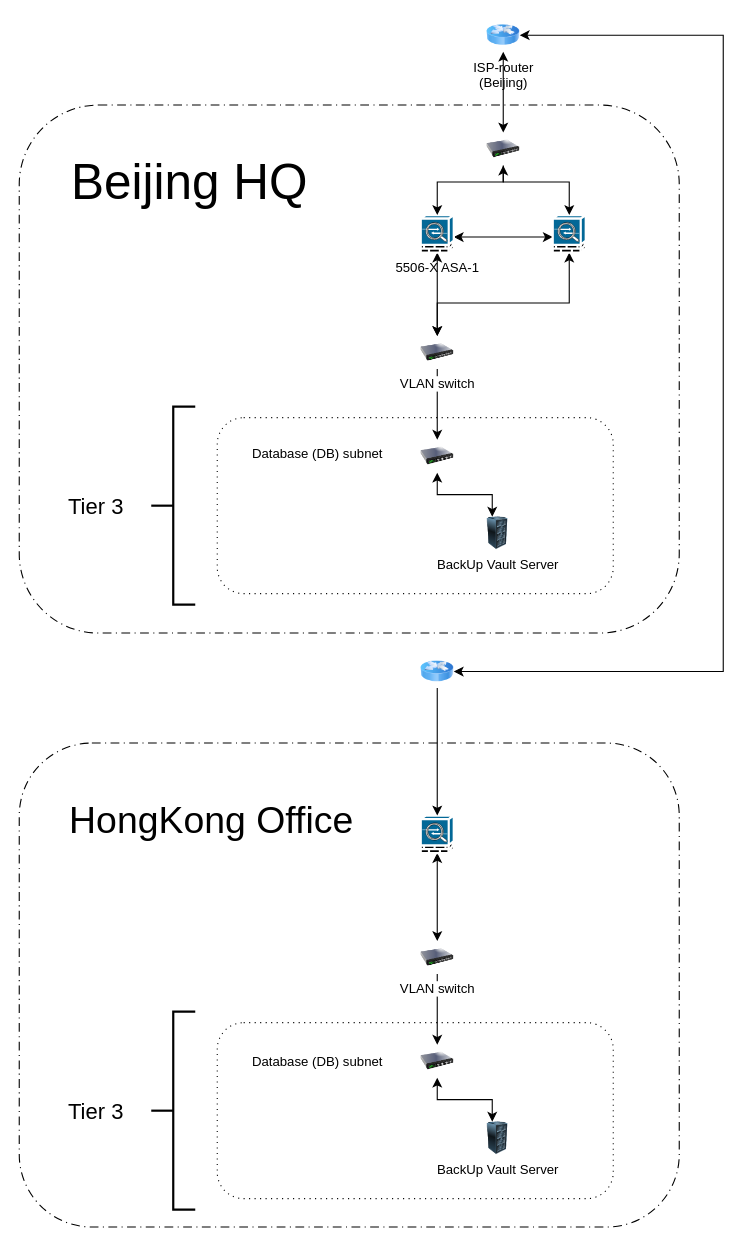
The diagram is 752 pixels wide and 1246 high, and some of its shapes have lost their labels. The centre of each missing label's shape, as x and y in pixels:
5506-X ASA-1 (HongKong Office): (x=436, y=834)
5506-X ASA-2: (x=568, y=233)
ISP-router (HongKong): (x=436, y=671)
